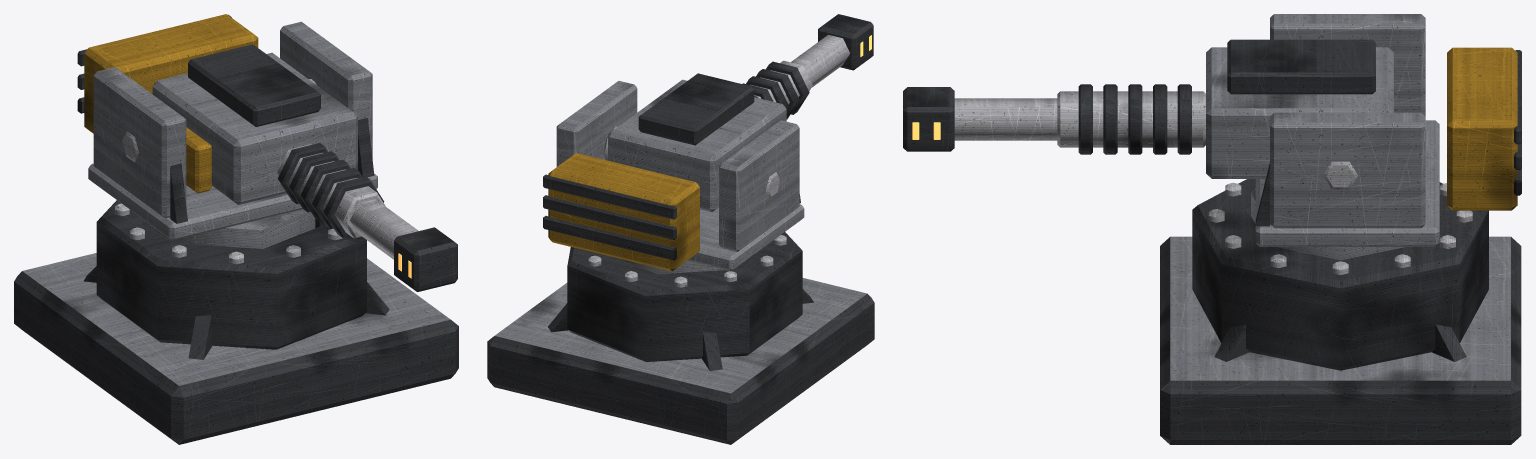
Rendered from R4W_Basic_LOD1.glb.
3 views of the same model, side by side, from view 1: azimuth 30°, elevation 25°; view 2: azimuth 150°, elevation 25°; view 3: azimuth 270°, elevation 25° (orthographic). The views are drawn at different scales.
Parts seen in each view (by area): view 1: R4W_Basic_LOD1; view 2: R4W_Basic_LOD1; view 3: R4W_Basic_LOD1.
Part boxes in pixels (<box>): R4W_Basic_LOD1: <box>14,14,458,444</box>; R4W_Basic_LOD1: <box>487,14,874,444</box>; R4W_Basic_LOD1: <box>903,14,1521,444</box>.
Size of the model in its own units: 0.51 by 0.494 by 0.874.
5 materials, 4 textured.
